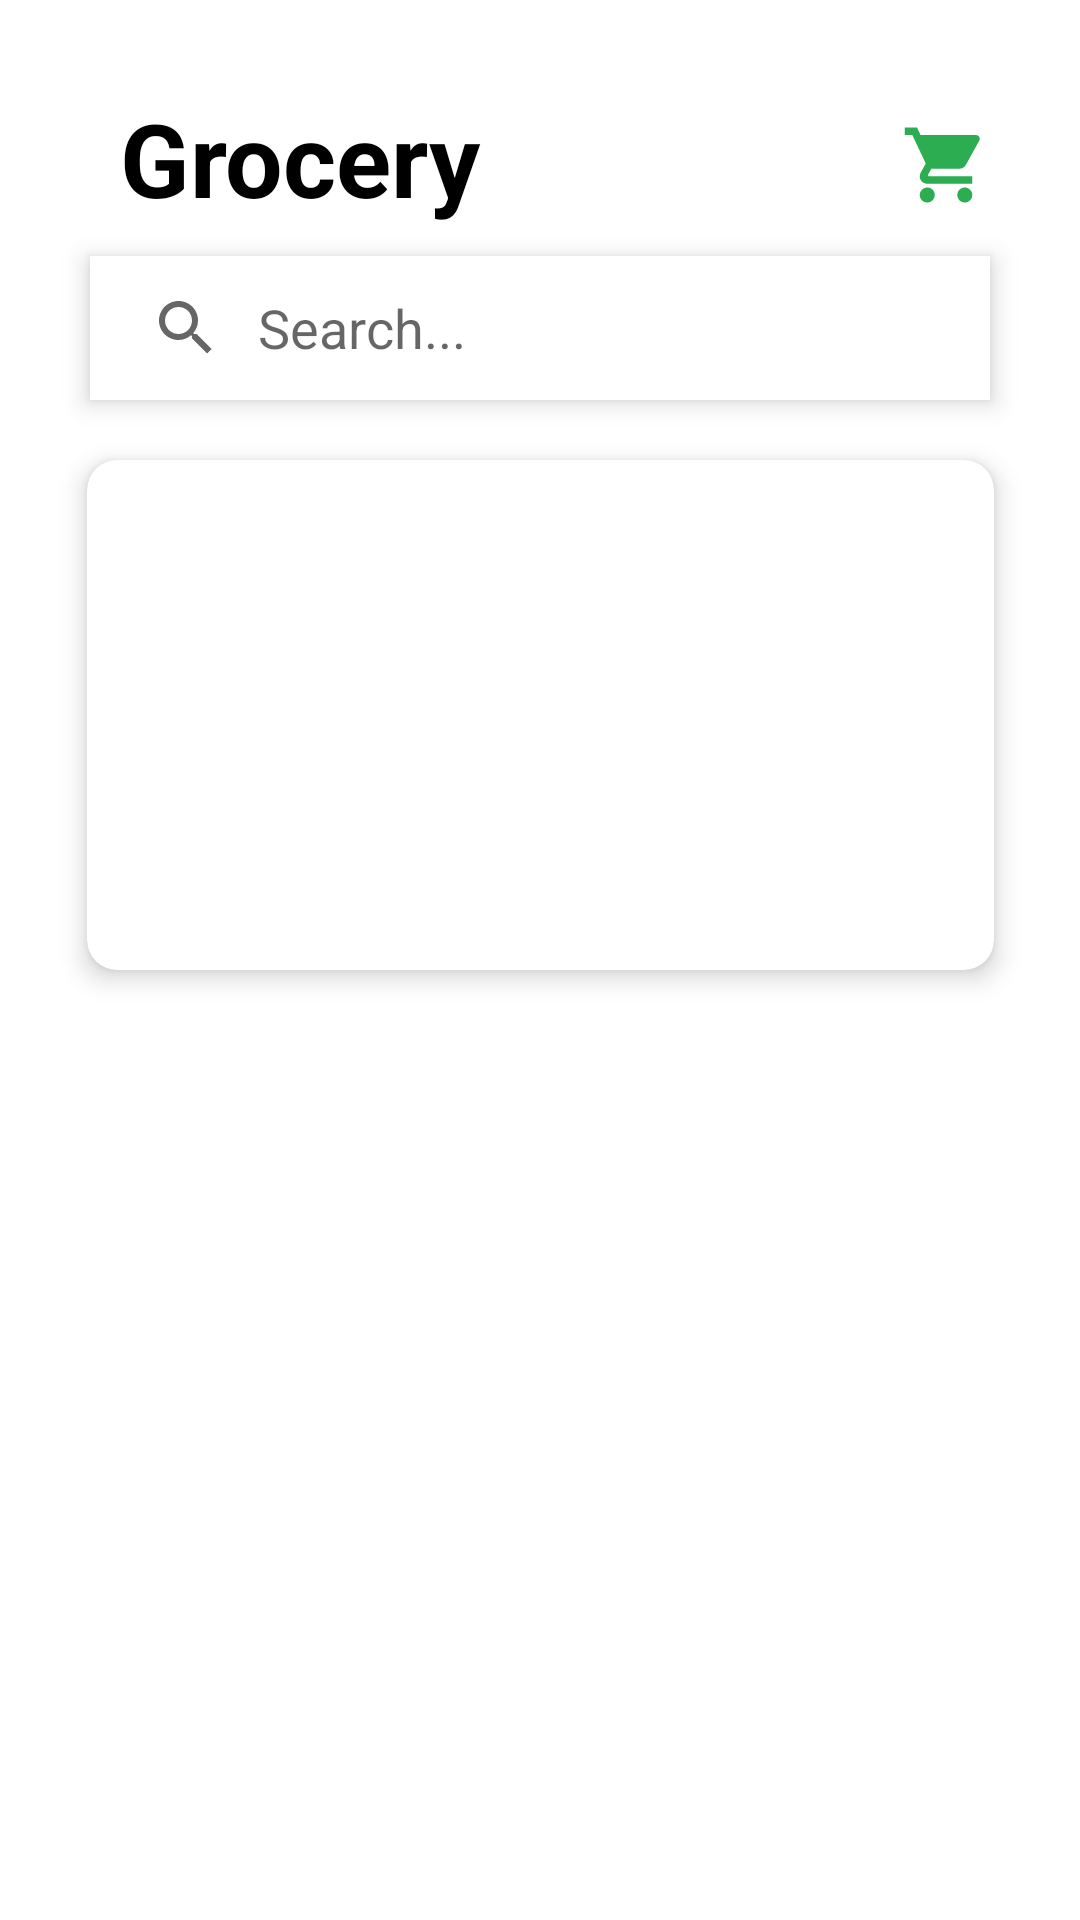

Icon bounding boxes for this 1080x1920 phone screenshot, format (x1=x1, y1=y1, x2=x2, y2=y2):
cart: (x1=904, y1=127, x2=980, y2=203)
